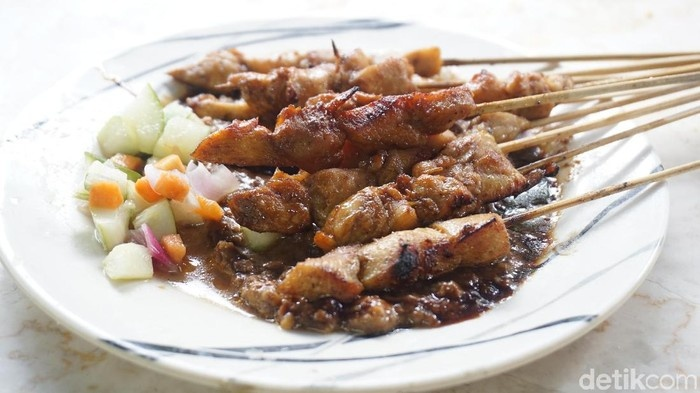sate_madura: (198, 28, 700, 332)
